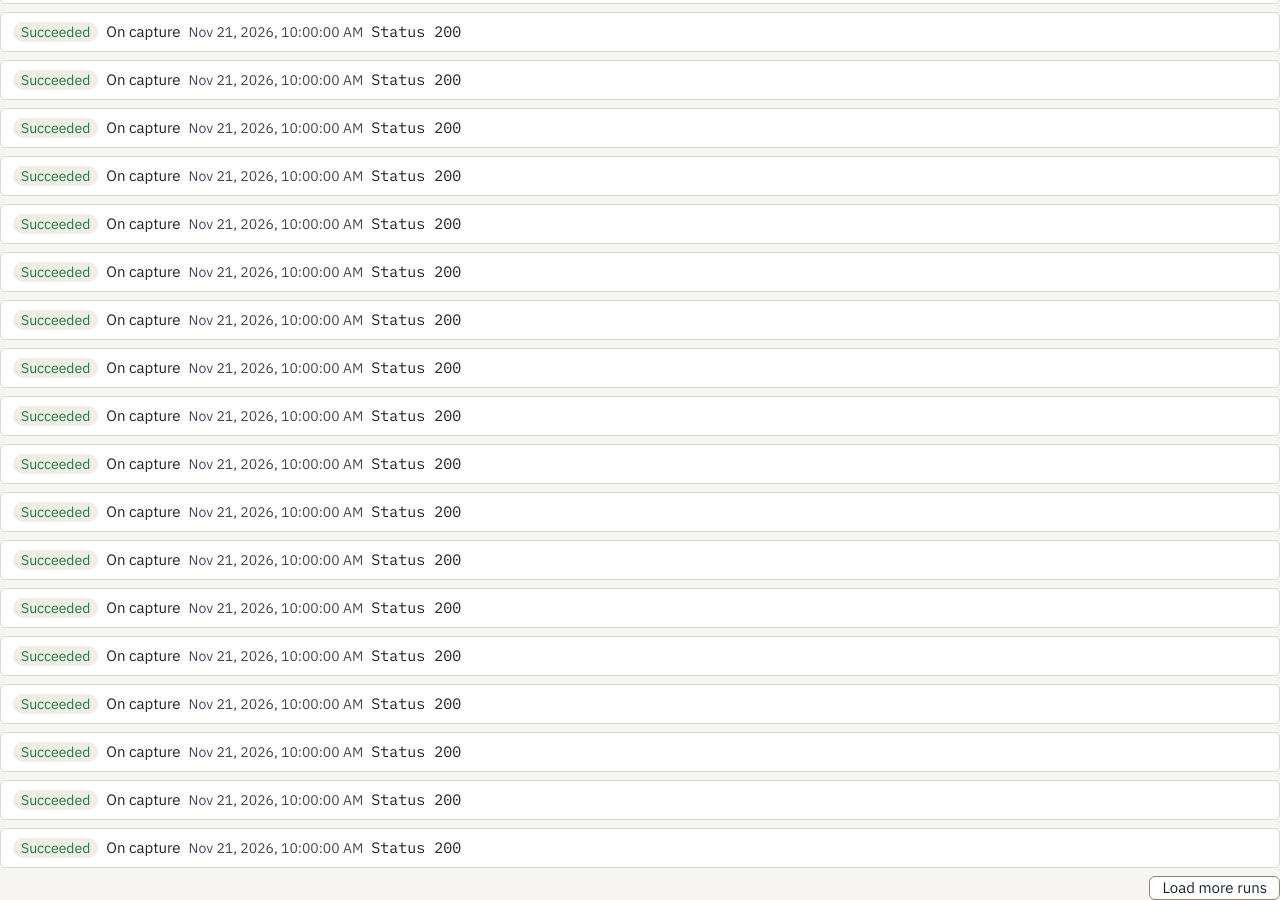
Test: RuleRunsPanel › loads the next page with the cursor from the server
(page scrolled)
Click the button "Load more runs": (1215,888) [1149, 876, 1279, 899]
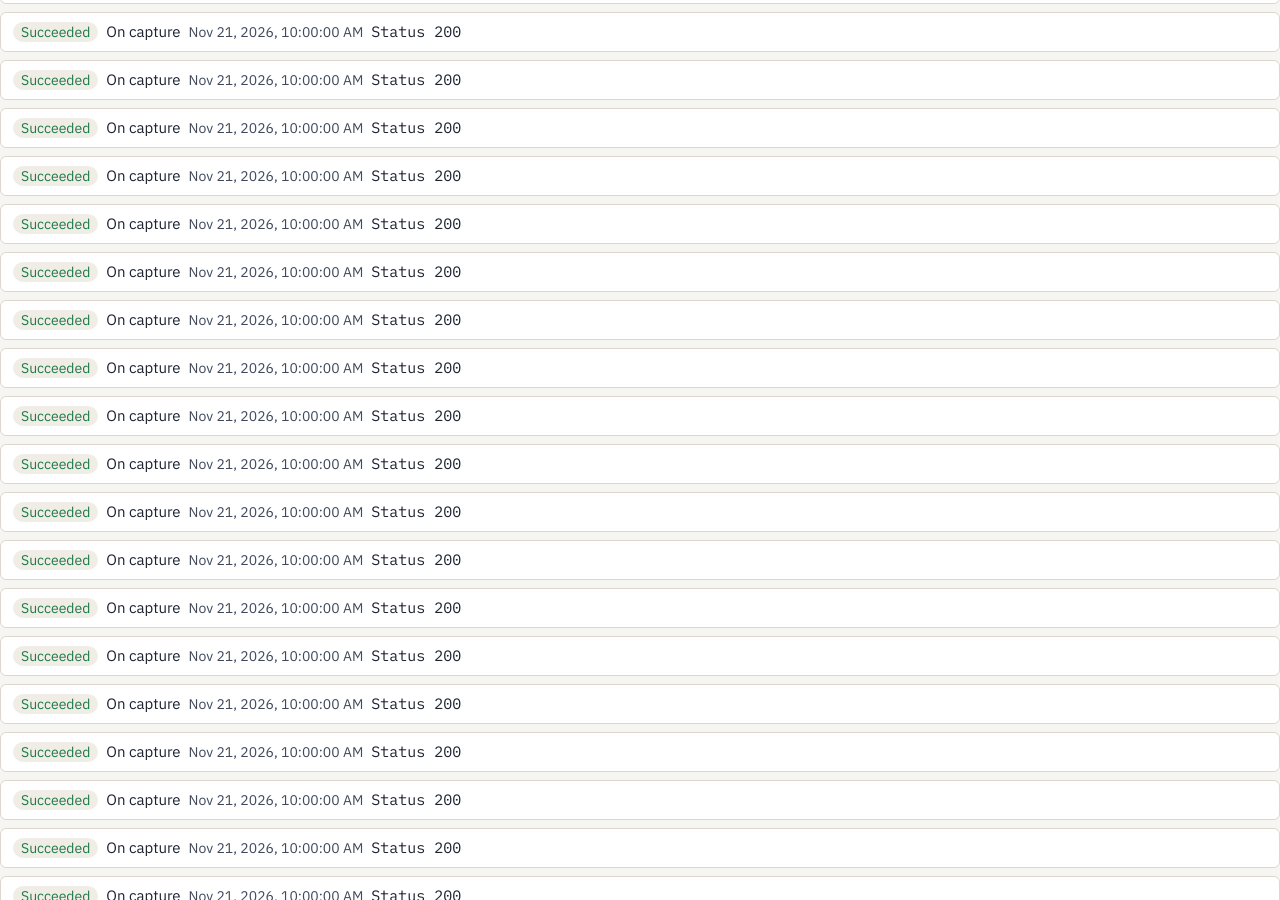
Expected: the button "Load more runs" is gone
